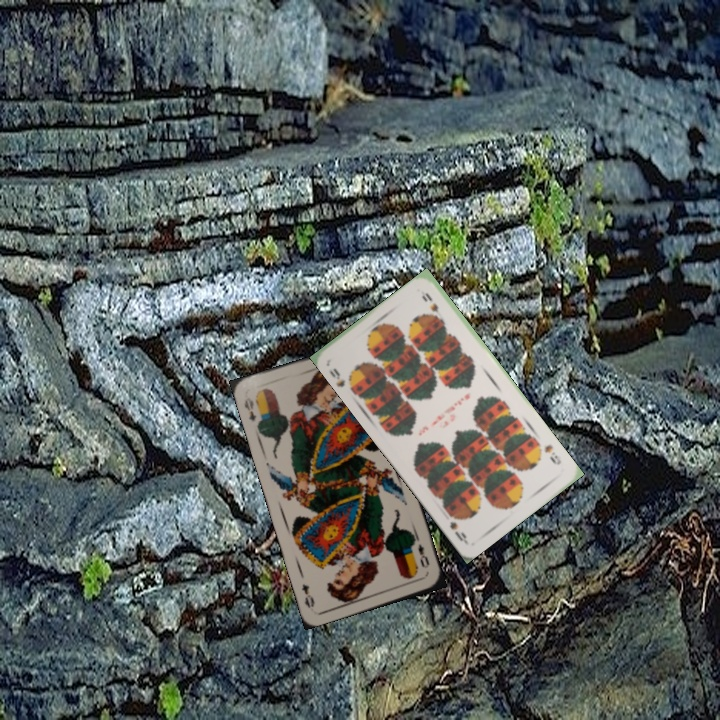EO: (240, 393, 259, 423), (414, 540, 432, 571)
S9: (540, 440, 564, 468), (325, 364, 348, 390)
